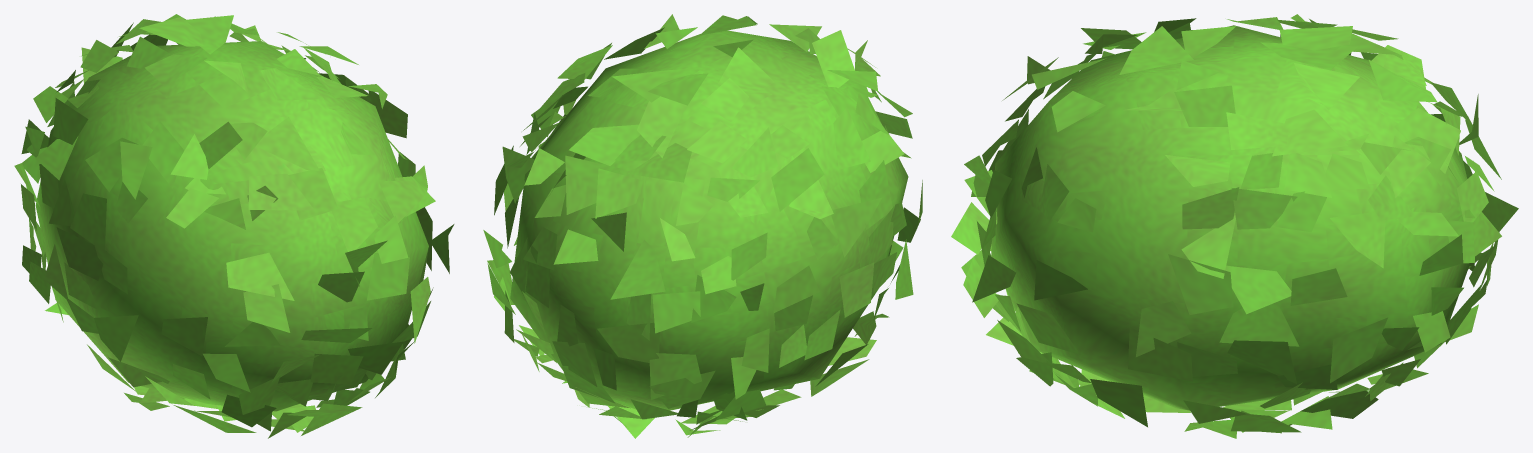
Rendered from bush.fbx.
3 renders of one model, left to right at view 1: azimuth 30°, elevation 25°; view 2: azimuth 150°, elevation 25°; view 3: azimuth 270°, elevation 25°, orthographic. The views are drawn at different scales.
Parts seen in each view (by area): view 1: Bush; view 2: Bush; view 3: Bush.
Boxes of the visible parts, x1,y1,x2,y2 form: Bush: [14, 14, 454, 438]; Bush: [483, 14, 922, 438]; Bush: [951, 14, 1518, 438].
Size of the model in its own units: 191 by 189 by 253.
